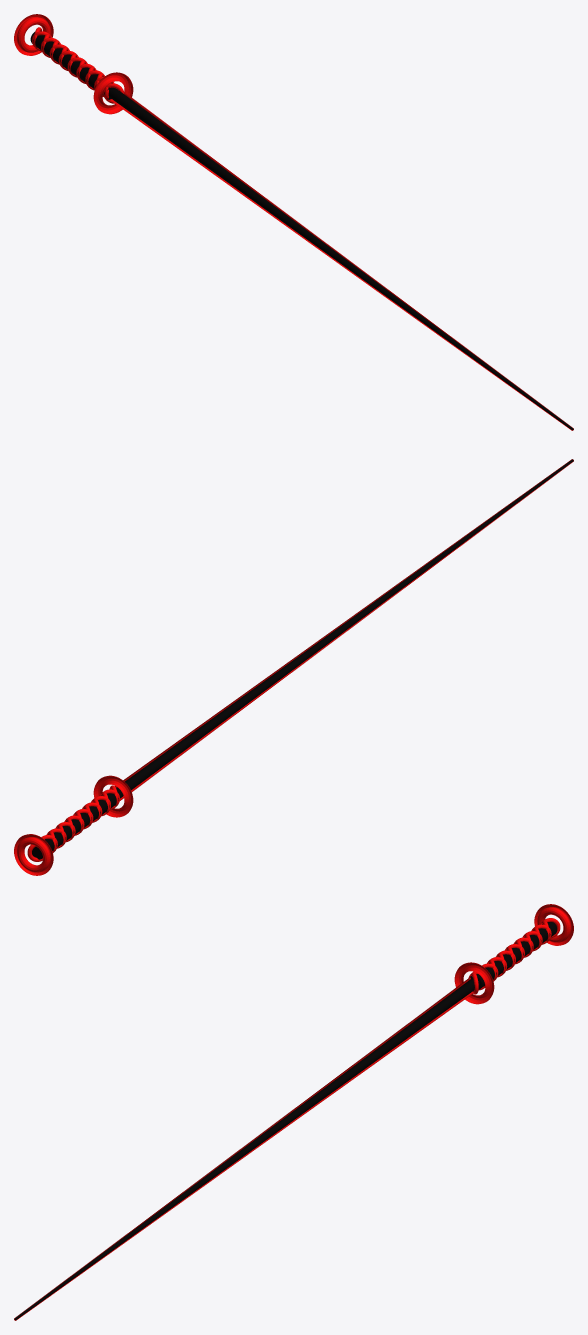
File: ko-circles.glb
The picture shows the model from 3 angles, top to bottom: view 1: azimuth 30°, elevation 25°; view 2: azimuth 150°, elevation 25°; view 3: azimuth 330°, elevation 25°; orthographic projection.
Parts seen in each view (by area): view 1: Left__merged__Handle_mat__0, Left__merged__Glow_mat_red__1, Left__merged__New_Material_4__2; view 2: Left__merged__Handle_mat__0, Left__merged__Glow_mat_red__1, Left__merged__New_Material_4__2; view 3: Left__merged__Handle_mat__0, Left__merged__Glow_mat_red__1, Left__merged__New_Material_4__2.
Part boxes in pixels (left/top/right/bottom): Left__merged__Handle_mat__0: left=30, top=31, right=573, bottom=430; Left__merged__Glow_mat_red__1: left=17, top=17, right=573, bottom=430; Left__merged__New_Material_4__2: left=14, top=14, right=133, bottom=114; Left__merged__Handle_mat__0: left=32, top=459, right=573, bottom=859; Left__merged__Glow_mat_red__1: left=17, top=459, right=573, bottom=872; Left__merged__New_Material_4__2: left=14, top=775, right=133, bottom=875; Left__merged__Handle_mat__0: left=14, top=922, right=557, bottom=1320; Left__merged__Glow_mat_red__1: left=14, top=907, right=570, bottom=1320; Left__merged__New_Material_4__2: left=454, top=904, right=573, bottom=1004.
Size of the model in its own units: 0.05 by 0.05 by 1.22.
